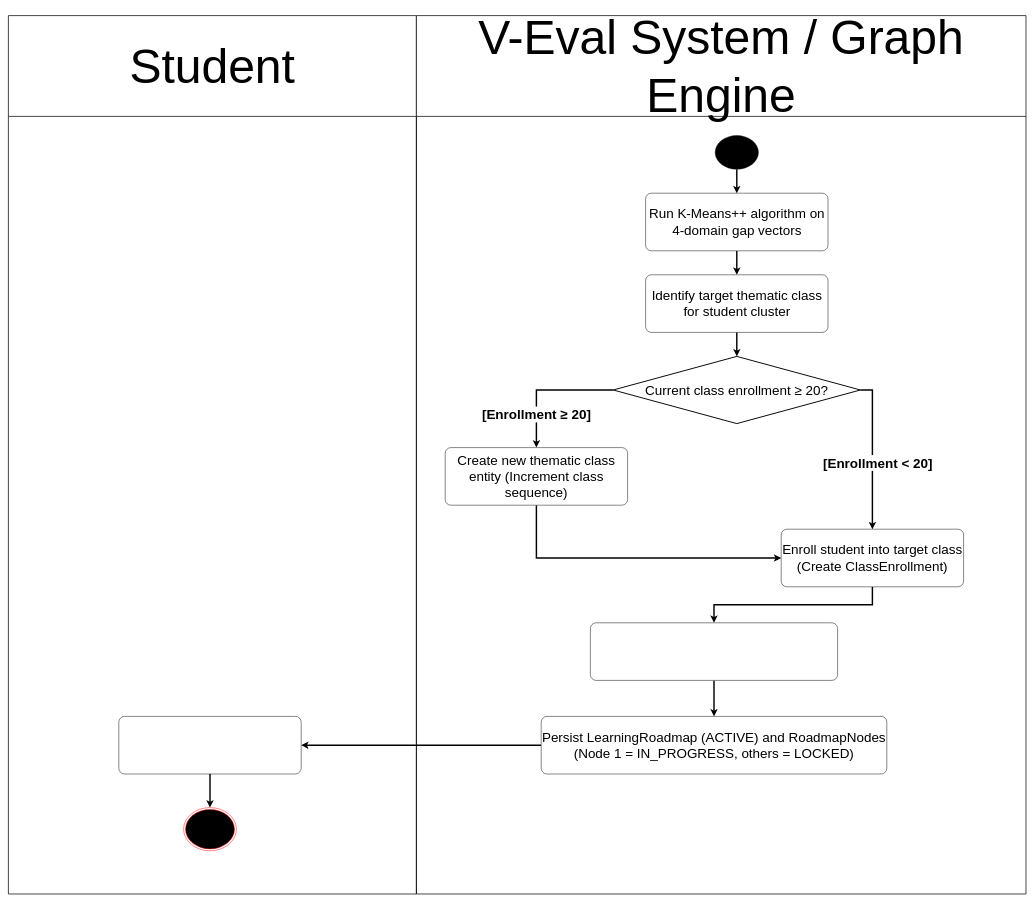
This 1035x902 diagram has some shape labels left out. Each missing label, with the centre of its shape:
"Run Homogeneous Clustering to form micro-groups (3-5 students)" goes at [714,651].
"View newly created roadmap and micro-group details" goes at [209,745].
